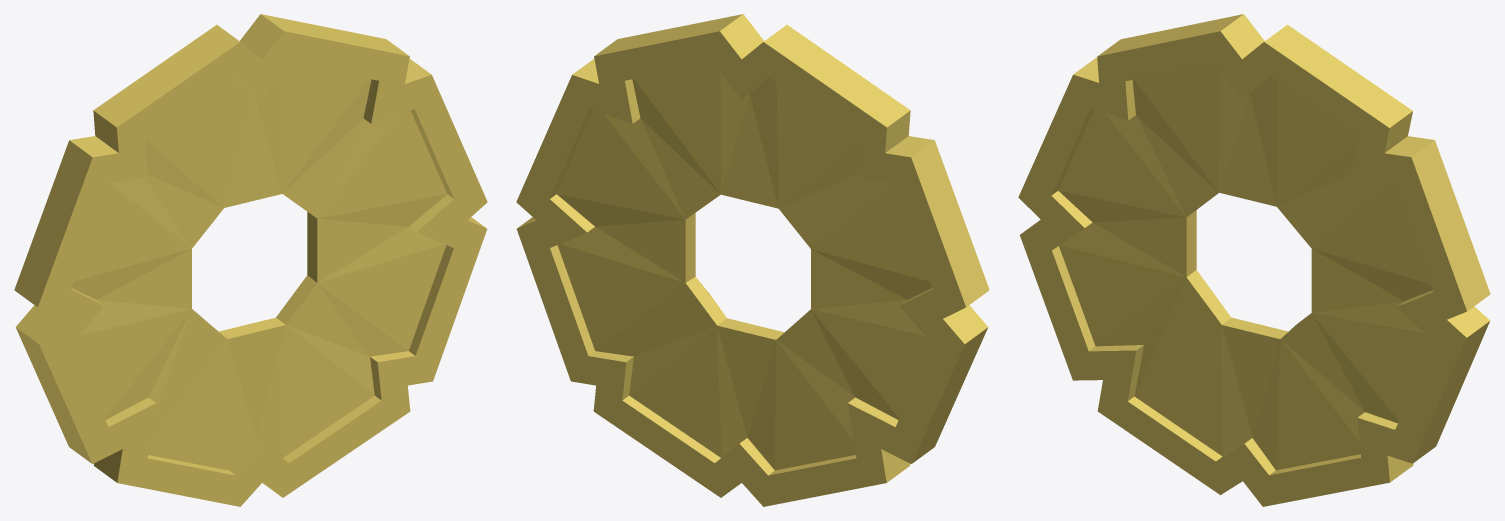
File: ananasSlice.glb
The picture shows the model from 3 angles, left to right: view 1: azimuth 30°, elevation 25°; view 2: azimuth 150°, elevation 25°; view 3: azimuth 330°, elevation 25°; orthographic projection.
Visible parts, largest first — view 1: ananasSlice; view 2: ananasSlice; view 3: ananasSlice.
Part boxes in pixels (x1=…): ananasSlice: x1=14, y1=14, x2=487, y2=506; ananasSlice: x1=516, y1=14, x2=989, y2=506; ananasSlice: x1=1018, y1=14, x2=1490, y2=506.
Bounding box in the file's own units: 2.16 × 2.14 × 0.196.
